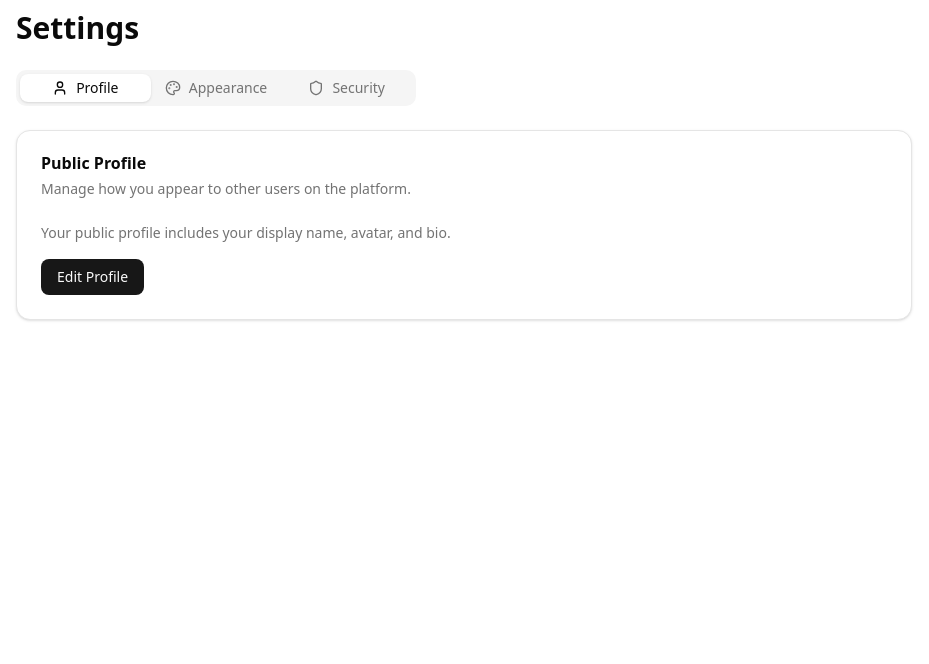
Settings Page › toggles content when tabs are clicked
Expected: the text "Public Profile" is shown, [41,152,146,174]
Note: Click Appearance
Click the tab "Appearance" at (216, 88), box [151,74,281,102]
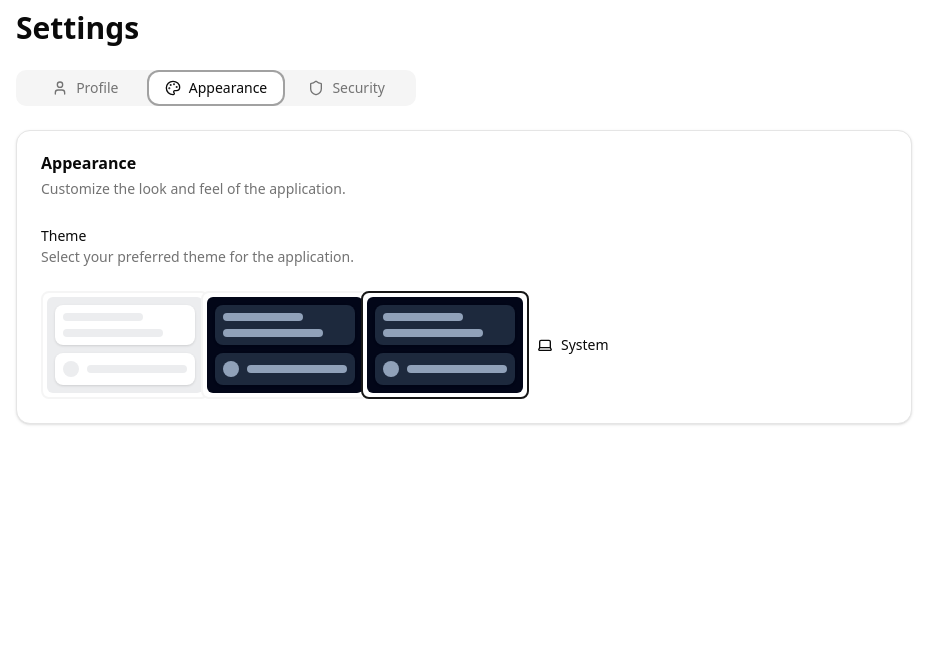
Result: the text "Customize the look and feel of the application." is shown at [41,179,346,198]
Note: Click Security
Click the tab "Security" at (347, 88), box [281,74,412,102]
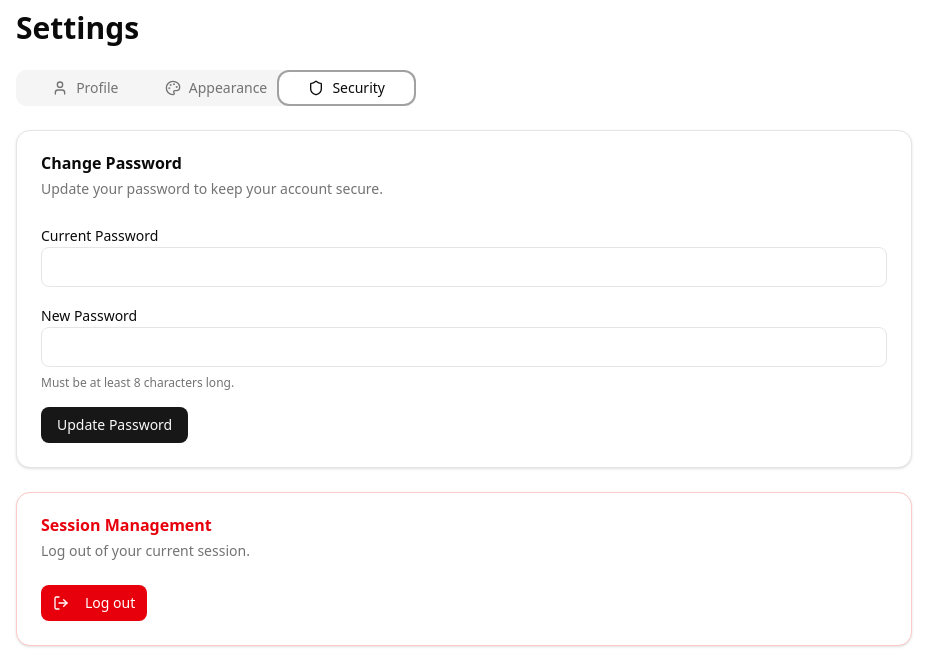
Result: the text "Change Password" is shown at [41,152,182,174]
